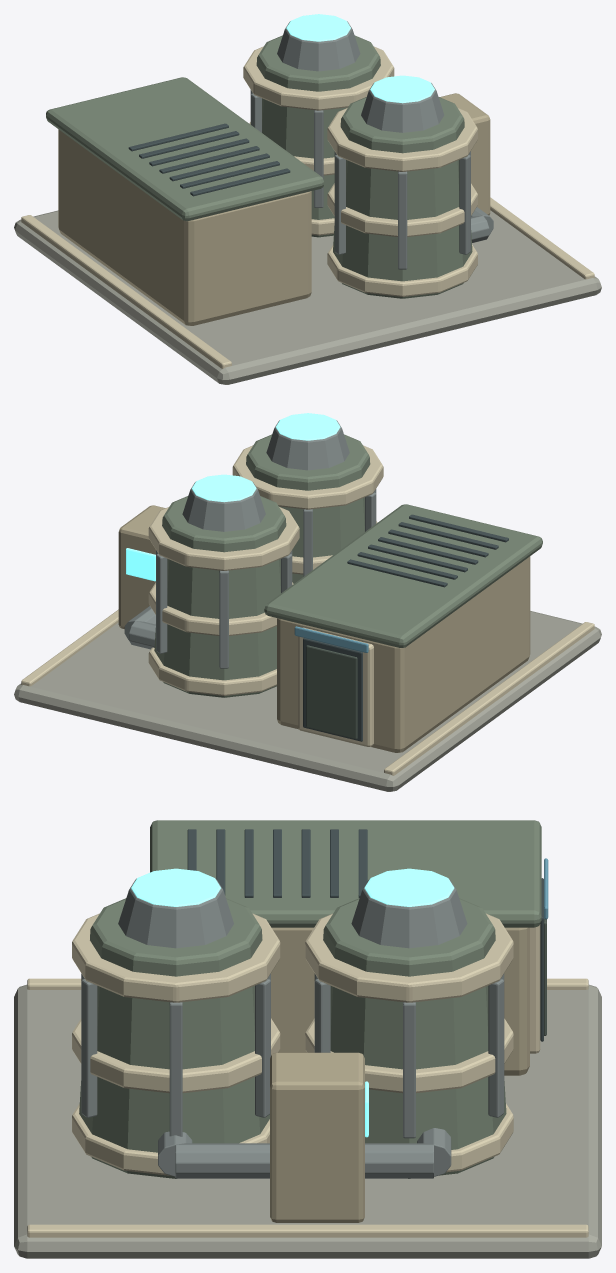
Rendered from fusion.glb.
3 renders of one model, top to bottom at view 1: azimuth 30°, elevation 25°; view 2: azimuth 150°, elevation 25°; view 3: azimuth 270°, elevation 25°, orthographic. The views are drawn at different scales.
Parts seen in each view (by area): view 1: body; view 2: body; view 3: body.
Part boxes in pixels (<box>): body: <box>14,14,601,384</box>; body: <box>14,413,601,791</box>; body: <box>14,820,601,1258</box>.
Size of the model in its own units: 6.5 by 3.25 by 6.2.
